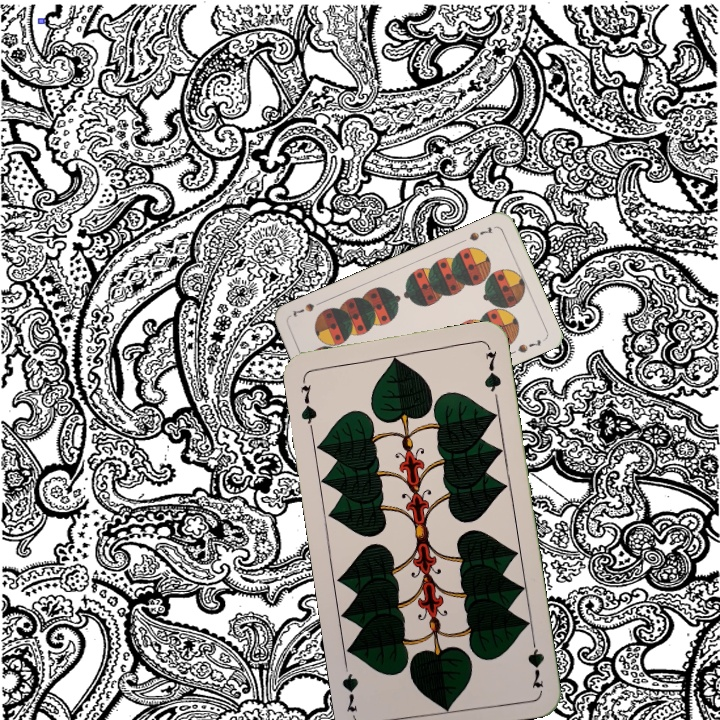G7: (523, 632, 547, 691), (296, 373, 320, 432)
S7: (465, 223, 495, 243)
